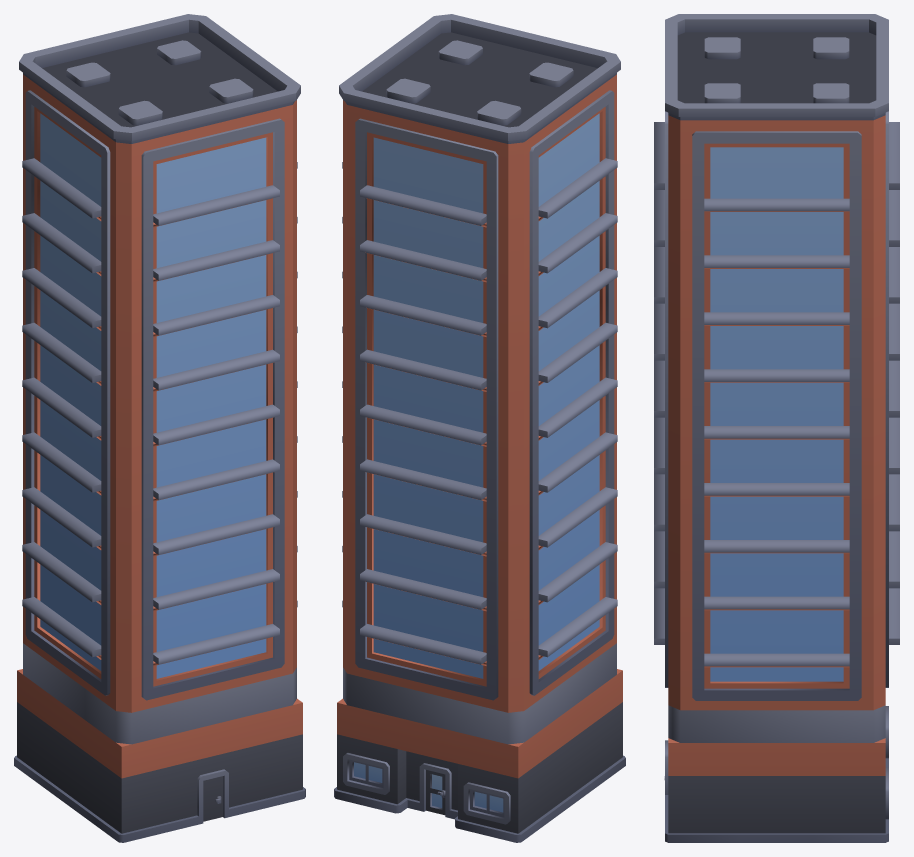
The model's file is building-skyscraper-b-b.glb.
3 views of the same model, side by side, from view 1: azimuth 30°, elevation 25°; view 2: azimuth 150°, elevation 25°; view 3: azimuth 270°, elevation 25° (orthographic). The views are drawn at different scales.
Visible parts, largest first — view 1: building-skyscraper-b; view 2: building-skyscraper-b; view 3: building-skyscraper-b.
Boxes of the visible parts, x1,y1,x2,y2 form: building-skyscraper-b: [14, 14, 305, 842]; building-skyscraper-b: [334, 14, 625, 842]; building-skyscraper-b: [654, 14, 899, 842].
Bounding box in the file's own units: 1.36 × 4.48 × 1.36.
Materials: 1 (1 with a texture image).
